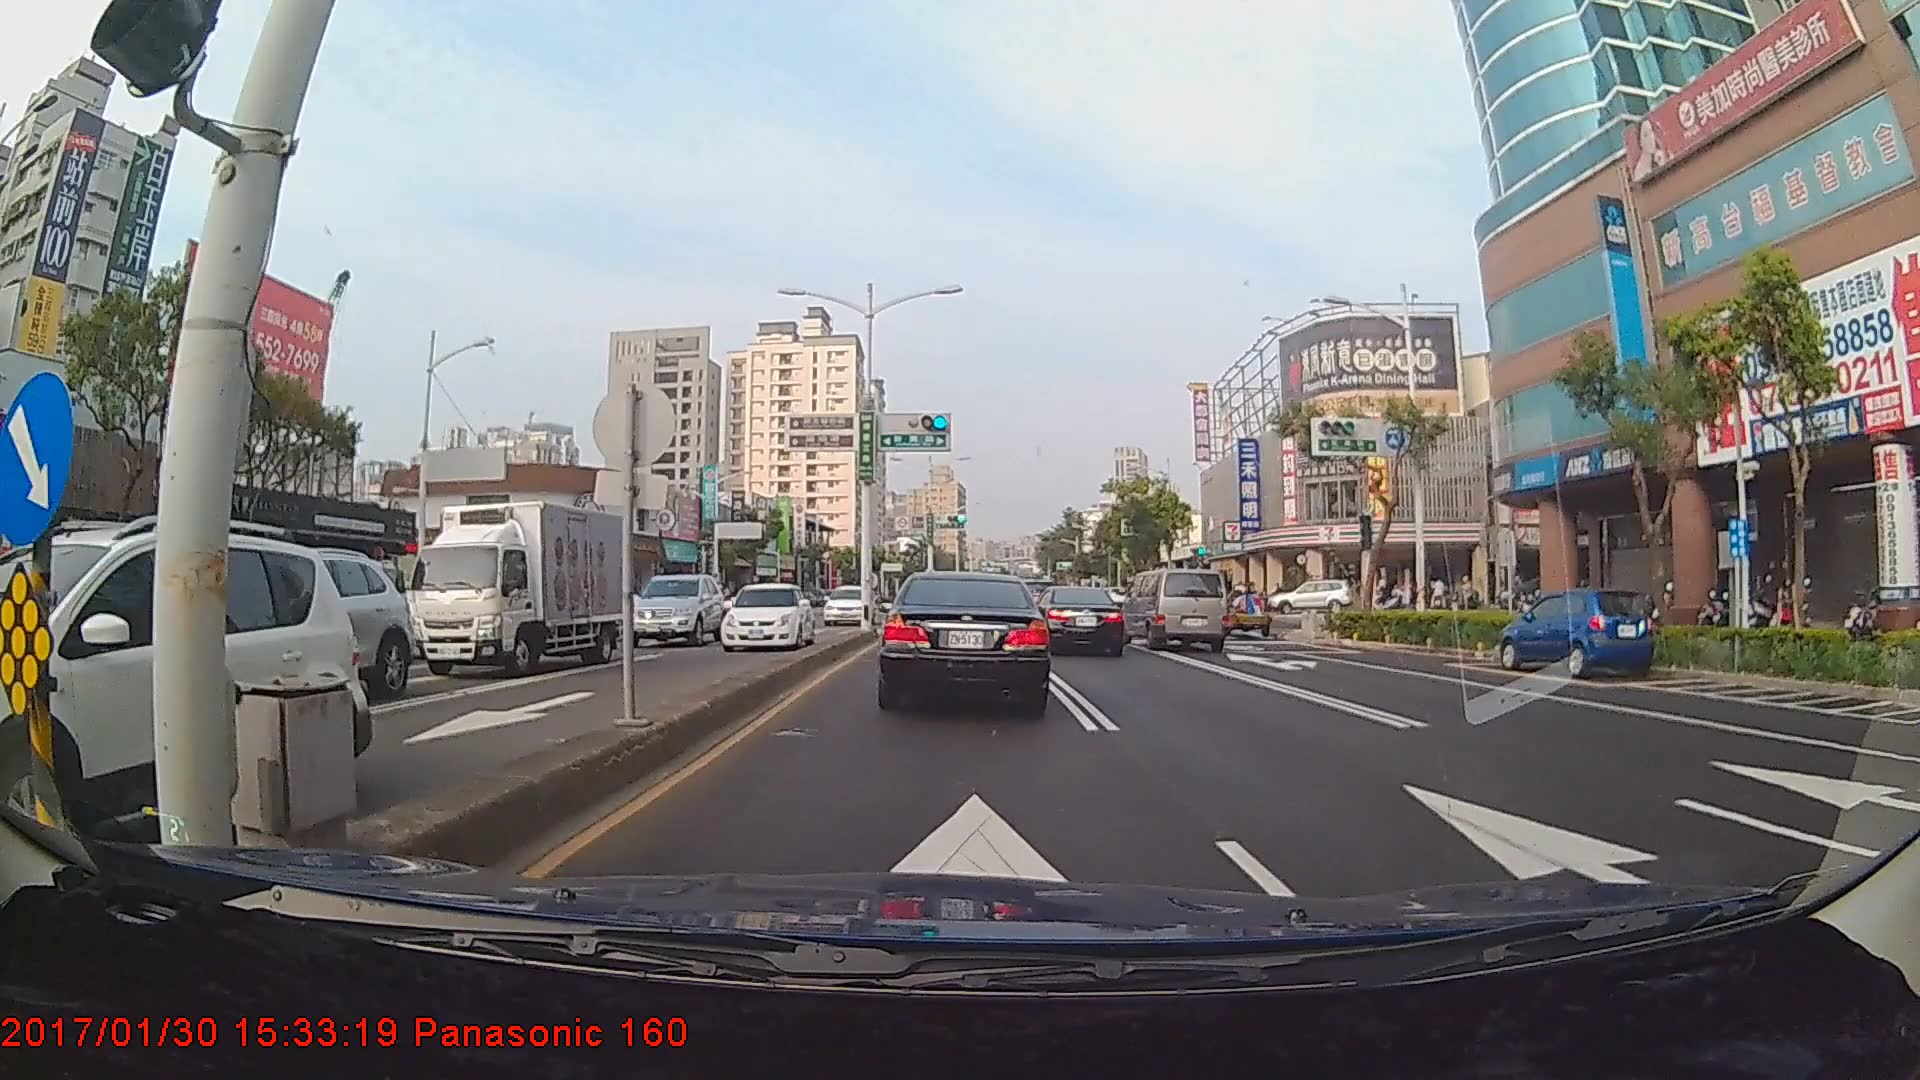vehicle: (0, 527, 357, 870), (397, 495, 636, 676), (174, 543, 407, 700), (880, 568, 1051, 712), (1497, 588, 1656, 673), (609, 567, 720, 646), (1125, 567, 1226, 651), (715, 578, 815, 650), (1038, 584, 1127, 655), (1270, 580, 1352, 616), (819, 582, 869, 624)
